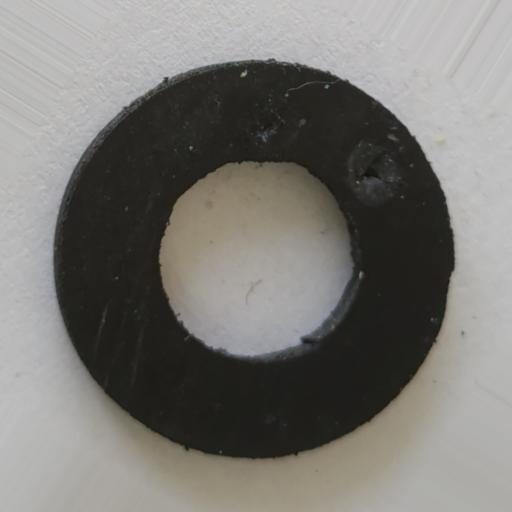defect: (345, 135, 409, 210), (246, 97, 287, 145)
